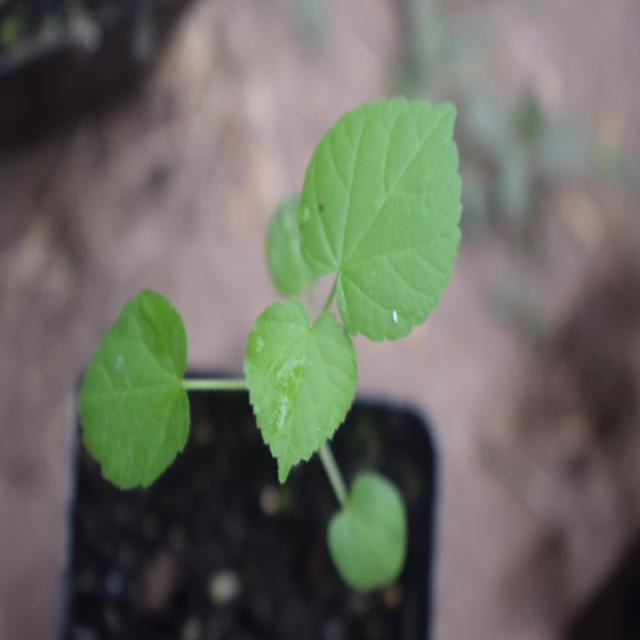abutilon theophrasti: (71, 91, 465, 555)
